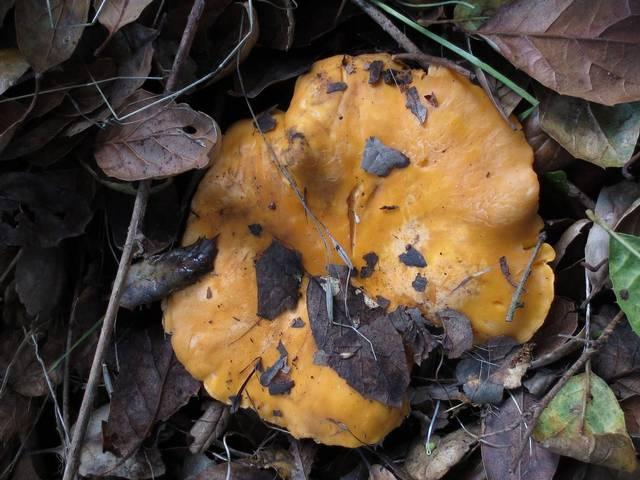Edible Mushroom: (158, 50, 557, 449)
